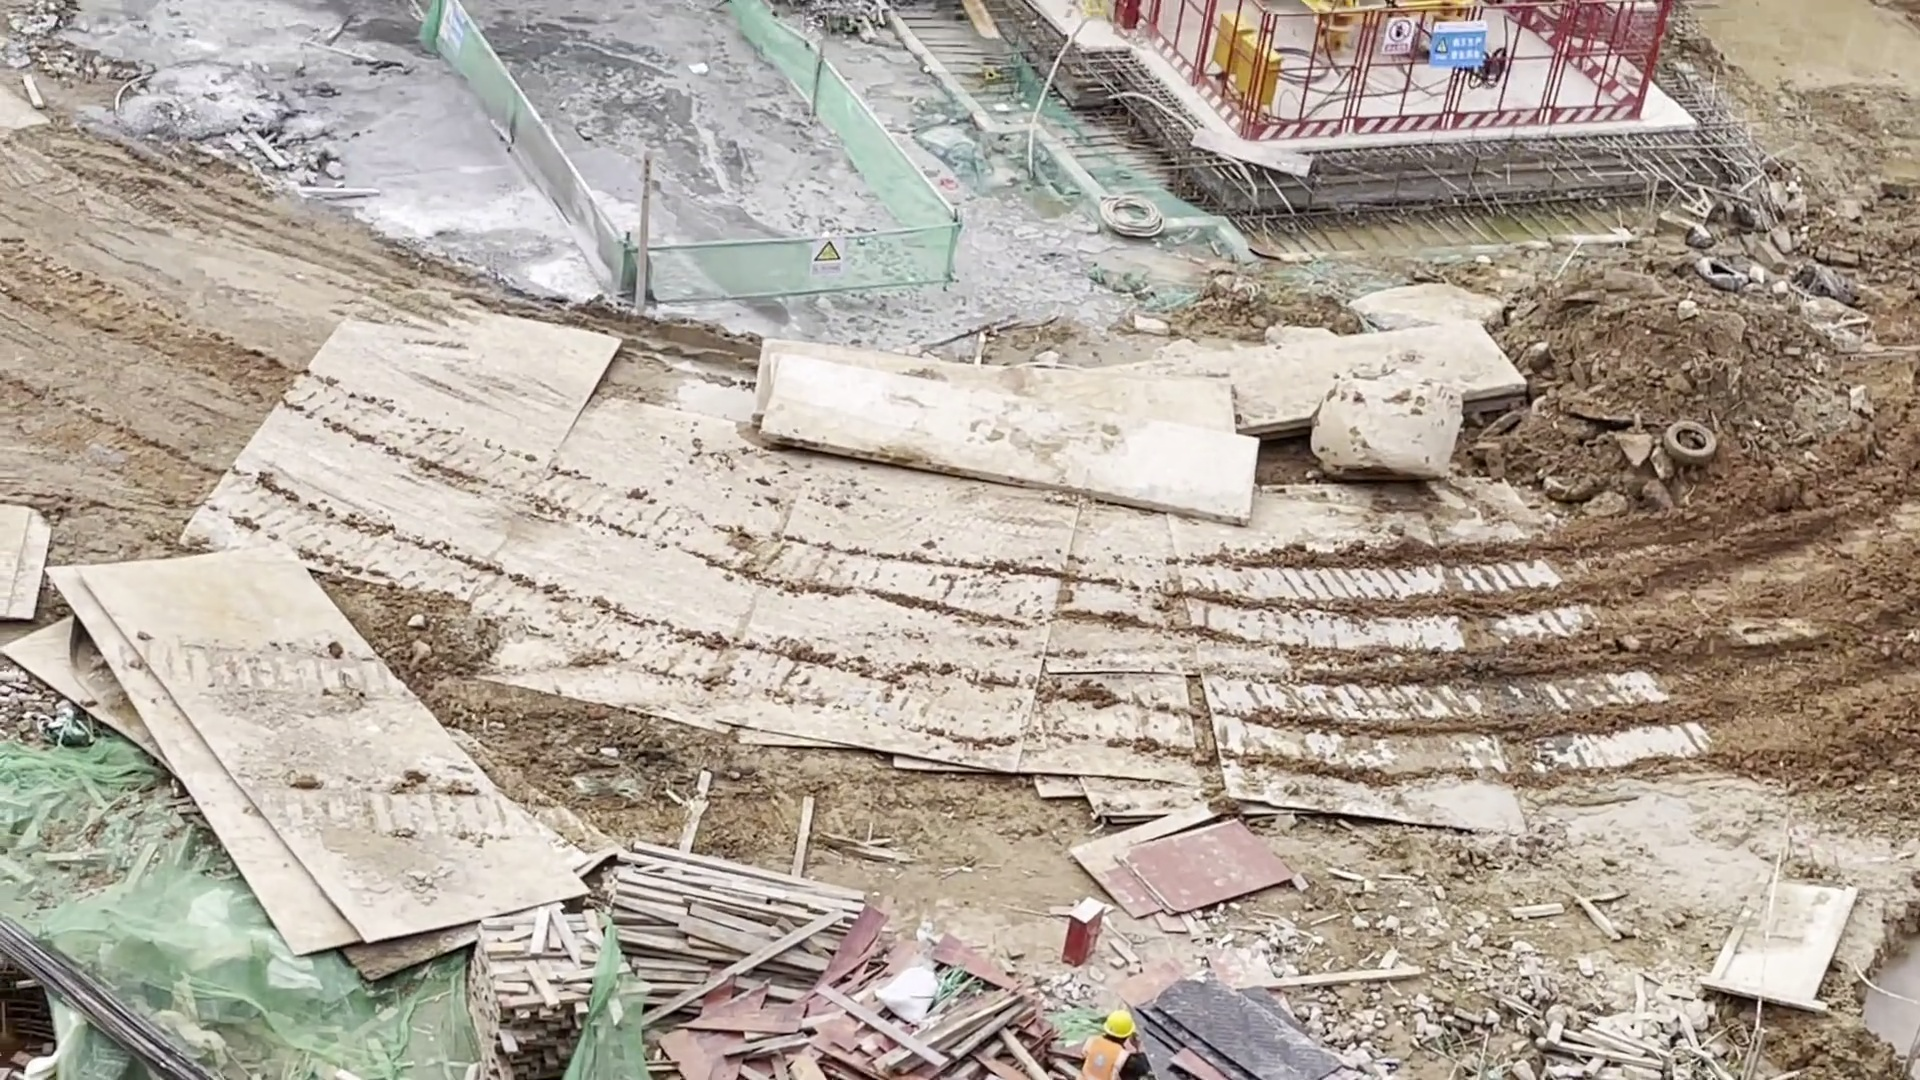ebox: (1213, 8, 1283, 125)
helmet: (1102, 1010, 1134, 1035)
person: (1077, 1004, 1152, 1080)
slogan: (1427, 23, 1487, 67), (1381, 15, 1416, 63), (439, 2, 467, 61), (808, 237, 842, 280)
vest: (1079, 1036, 1128, 1080)
wood: (472, 839, 863, 1059)
